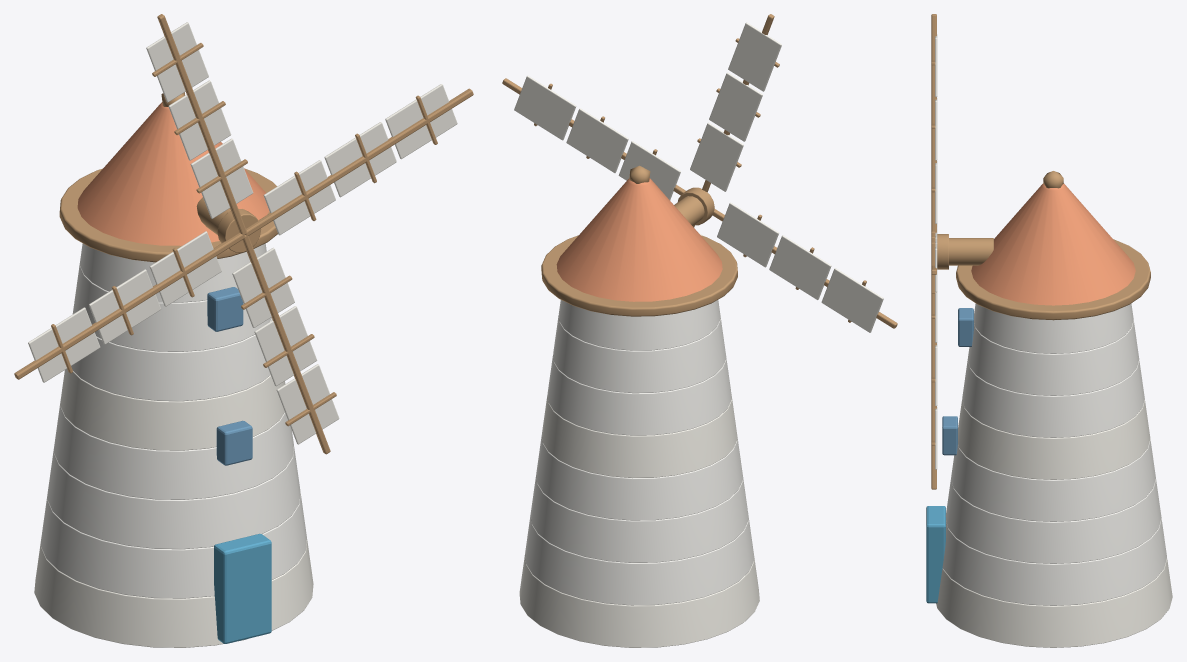
The model's file is windmill.fbx.
3 renders of one model, left to right at view 1: azimuth 30°, elevation 25°; view 2: azimuth 150°, elevation 25°; view 3: azimuth 270°, elevation 25°, orthographic. The views are drawn at different scales.
Parts seen in each view (by area): view 1: Visual, Spin_Y; view 2: Visual, Spin_Y; view 3: Visual, Spin_Y.
Boxes of the visible parts, left/top/right/bottom form: Visual: left=34, top=92, right=313, bottom=647; Spin_Y: left=14, top=14, right=473, bottom=454; Visual: left=519, top=165, right=759, bottom=647; Spin_Y: left=502, top=14, right=897, bottom=332; Visual: left=926, top=171, right=1172, bottom=647; Spin_Y: left=931, top=14, right=948, bottom=489.
Size of what is drawn, in the model's own units: 1130 by 1525 by 620.
